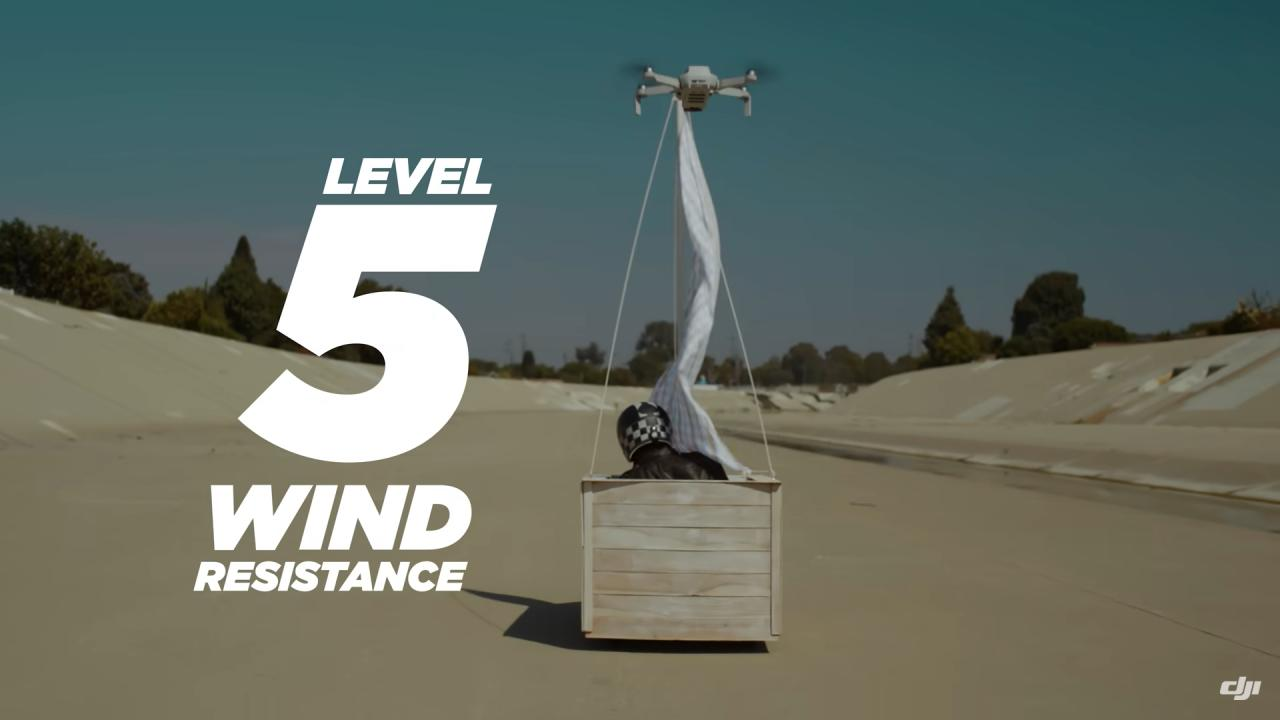Drone: (603, 43, 793, 139)
